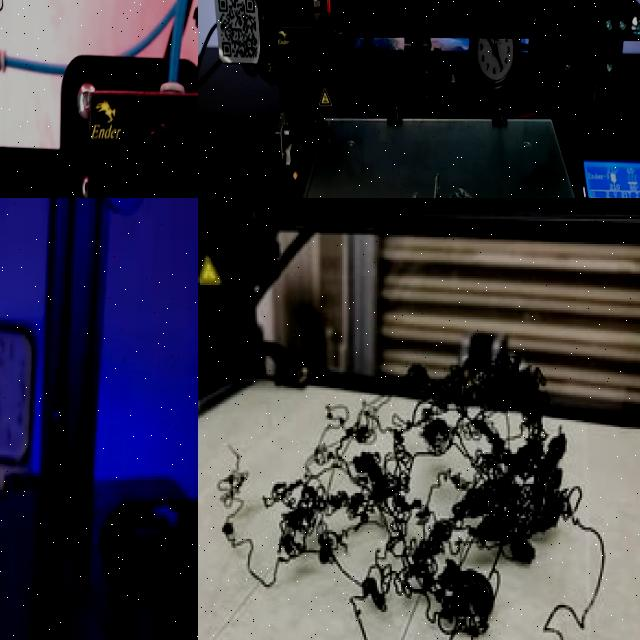spaghetti: (229, 361, 631, 640)
